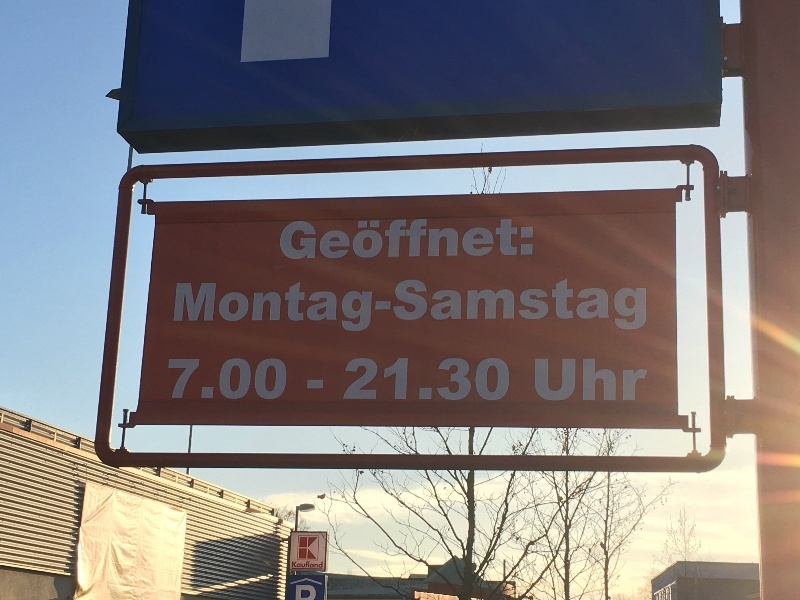text: (177, 280, 192, 332), (193, 280, 208, 332), (209, 280, 224, 332), (225, 280, 240, 332), (241, 280, 256, 332), (257, 280, 272, 332), (273, 280, 288, 332), (289, 280, 304, 332), (305, 280, 320, 332), (321, 280, 336, 332), (337, 280, 352, 332), (353, 280, 368, 332), (369, 280, 384, 332), (385, 280, 400, 332), (401, 280, 416, 332), (417, 280, 432, 332), (433, 280, 448, 332), (449, 280, 464, 332), (465, 280, 480, 332), (481, 280, 496, 332), (497, 280, 512, 332), (513, 280, 528, 332), (529, 280, 544, 332), (545, 280, 560, 332), (561, 280, 576, 332), (577, 280, 592, 332), (593, 280, 608, 332), (609, 280, 624, 332), (625, 280, 640, 332), (545, 358, 560, 402), (561, 358, 576, 402), (577, 358, 592, 402), (593, 358, 608, 402), (609, 358, 624, 402), (625, 358, 640, 402), (289, 218, 304, 261), (305, 218, 320, 261), (321, 218, 336, 261), (337, 218, 352, 261), (353, 218, 368, 261), (369, 218, 384, 261), (385, 218, 400, 261), (401, 218, 416, 261), (417, 218, 432, 261), (433, 218, 448, 261), (449, 218, 464, 261), (465, 218, 480, 261), (481, 218, 496, 261), (497, 218, 512, 261), (513, 218, 528, 261), (177, 359, 192, 401), (193, 359, 208, 401), (209, 359, 224, 401), (225, 359, 240, 401), (241, 359, 256, 401), (257, 359, 272, 401), (273, 359, 288, 401), (353, 359, 368, 401), (369, 359, 384, 401), (385, 359, 400, 401), (401, 359, 416, 401), (417, 359, 432, 401), (433, 359, 448, 401), (449, 359, 464, 401), (465, 359, 480, 401), (481, 359, 496, 401), (497, 359, 510, 401), (279, 218, 288, 261), (641, 280, 648, 332), (536, 358, 544, 402), (641, 358, 648, 402), (169, 359, 176, 401), (346, 359, 352, 401), (529, 218, 534, 261), (305, 585, 318, 600), (296, 585, 304, 600), (308, 381, 320, 389), (305, 562, 320, 568), (293, 562, 304, 568), (321, 381, 324, 389), (321, 562, 323, 568)
